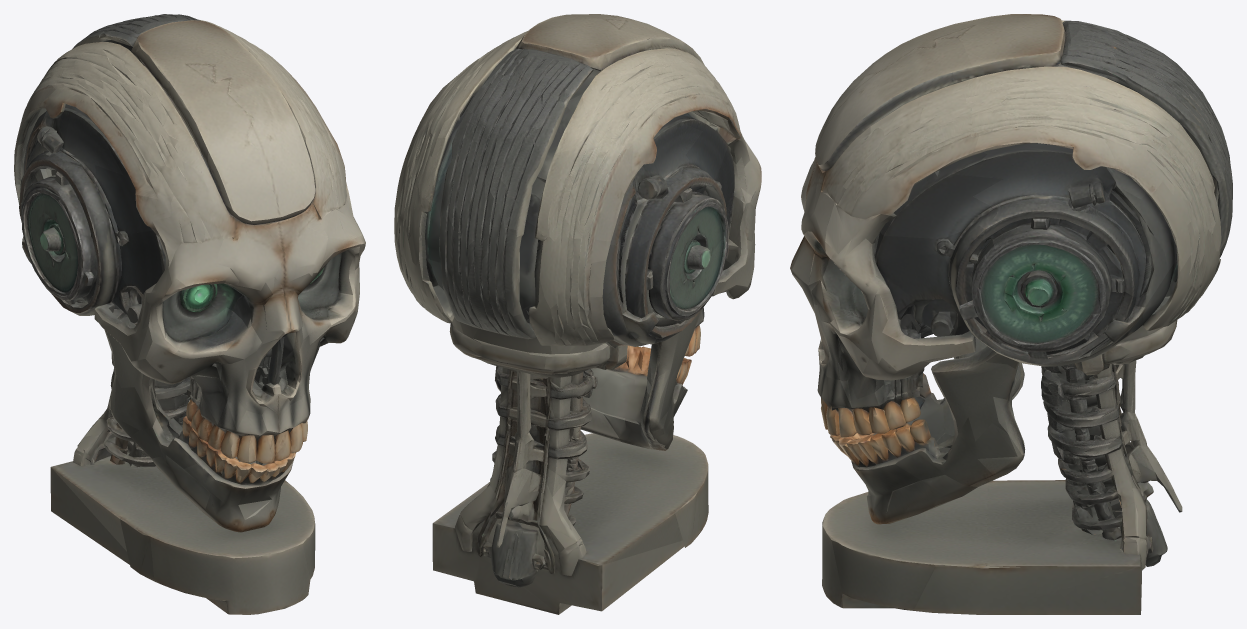
Rendered from SKULL-head.glb.
3 views of the same model, side by side, from view 1: azimuth 30°, elevation 25°; view 2: azimuth 150°, elevation 25°; view 3: azimuth 270°, elevation 25° (orthographic). The views are drawn at different scales.
Parts seen in each view (by area): view 1: mesh_node; view 2: mesh_node; view 3: mesh_node.
Boxes of the visible parts, bbox=[...] form: mesh_node: bbox=[14, 14, 365, 614]; mesh_node: bbox=[394, 14, 761, 614]; mesh_node: bbox=[790, 14, 1232, 614].
Bounding box in the file's own units: 1.05 × 1.9 × 1.37.
Materials: 1 (1 with a texture image).
